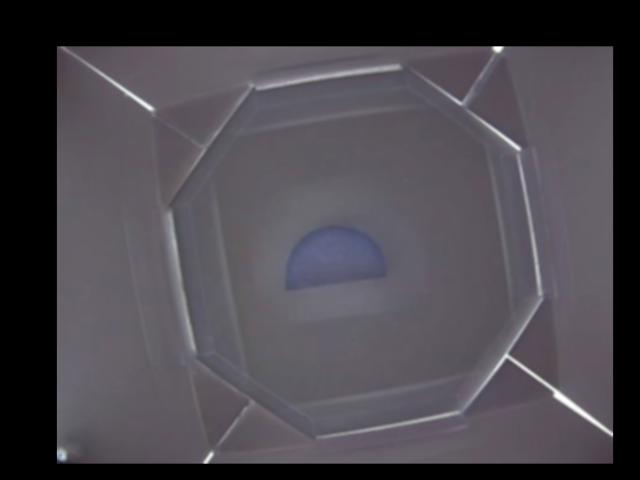Mooli: (282, 227, 388, 288)
